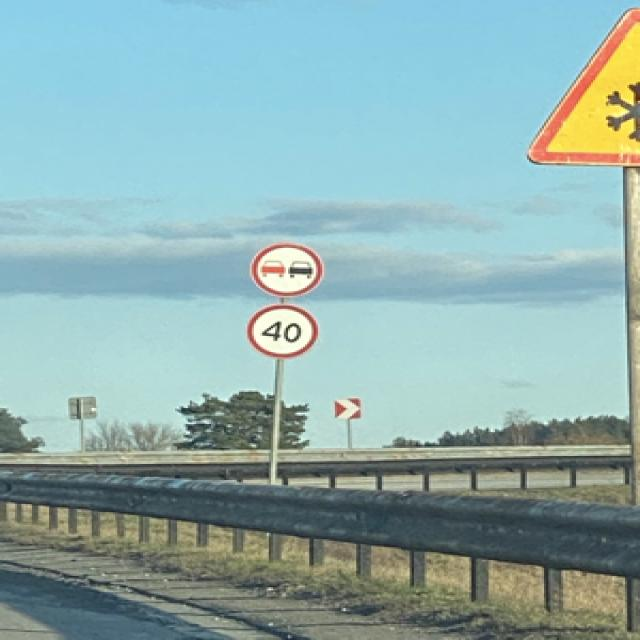speedlimit: (245, 302, 316, 357)
